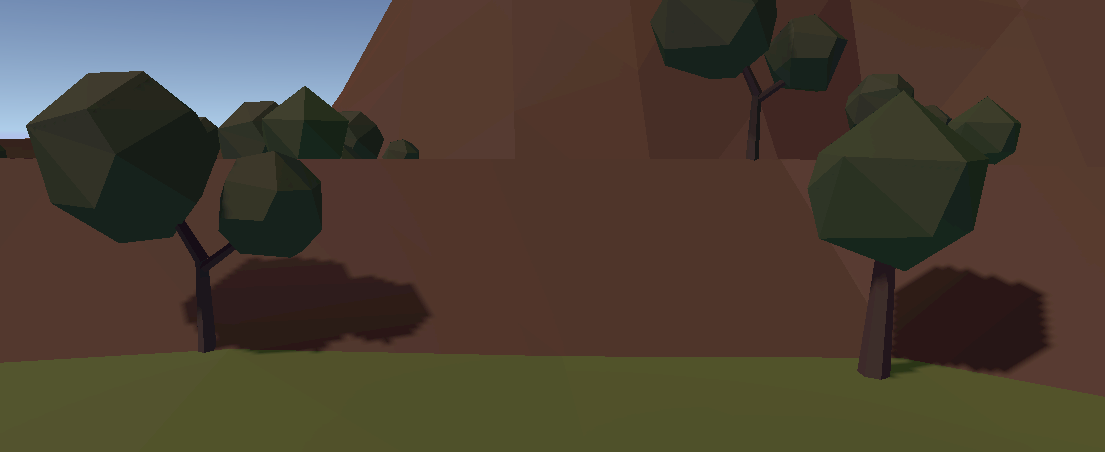tree: (25, 71, 324, 355), (805, 89, 988, 379), (650, 2, 846, 159), (215, 83, 344, 160), (916, 87, 1021, 167), (333, 99, 423, 161)
